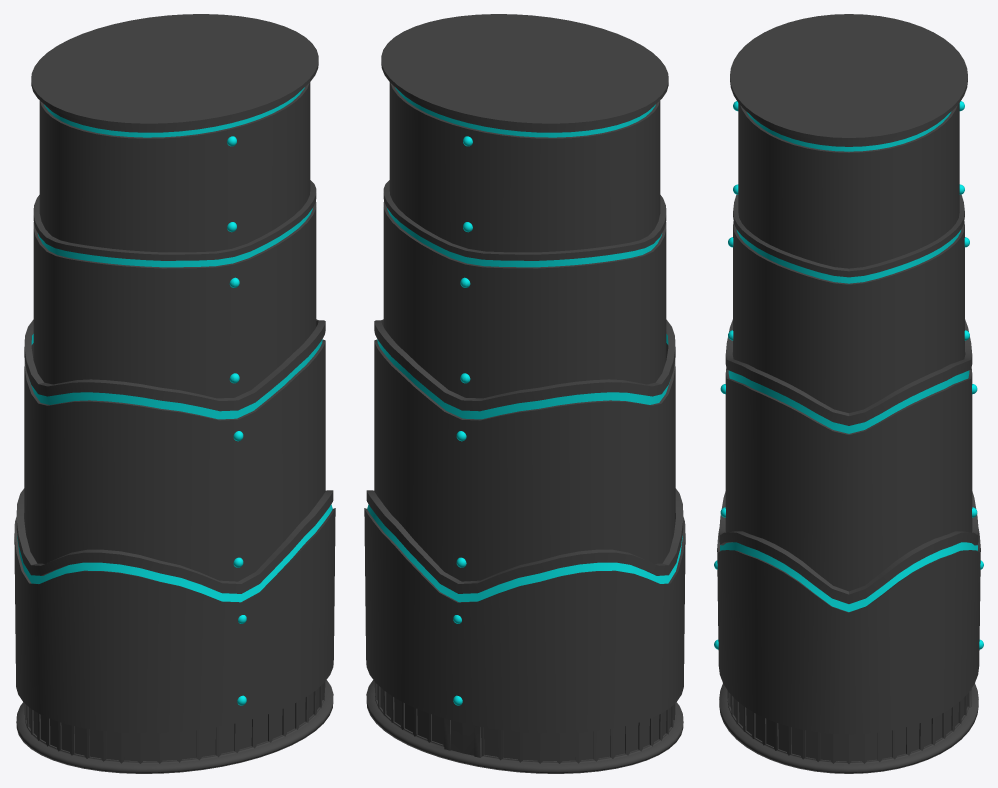
Rendered from building6.fbx.
3 renders of one model, left to right at view 1: azimuth 30°, elevation 25°; view 2: azimuth 150°, elevation 25°; view 3: azimuth 270°, elevation 25°, orthographic. The views are drawn at different scales.
Visible parts, largest first — view 1: polySurface832; view 2: polySurface832; view 3: polySurface832.
Boxes of the visible parts, x1=… form: polySurface832: x1=14, y1=14, x2=335, y2=773; polySurface832: x1=364, y1=14, x2=685, y2=773; polySurface832: x1=714, y1=14, x2=983, y2=773.
Bounding box in the file's own units: 26.22 × 55.42 × 21.54.
